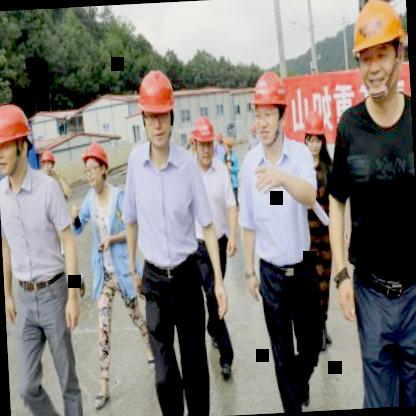helmet: (342, 0, 410, 101), (130, 61, 180, 156), (246, 65, 292, 148), (0, 95, 35, 180), (298, 102, 328, 162), (78, 140, 111, 188), (188, 112, 218, 164), (39, 144, 58, 184)
